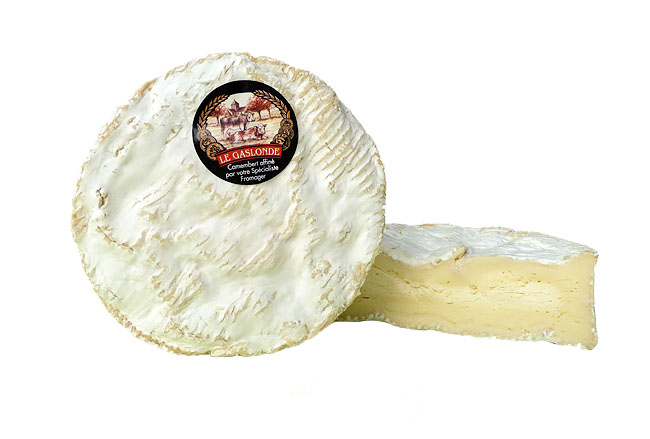camembert: (71, 50, 387, 359), (386, 223, 599, 351)
